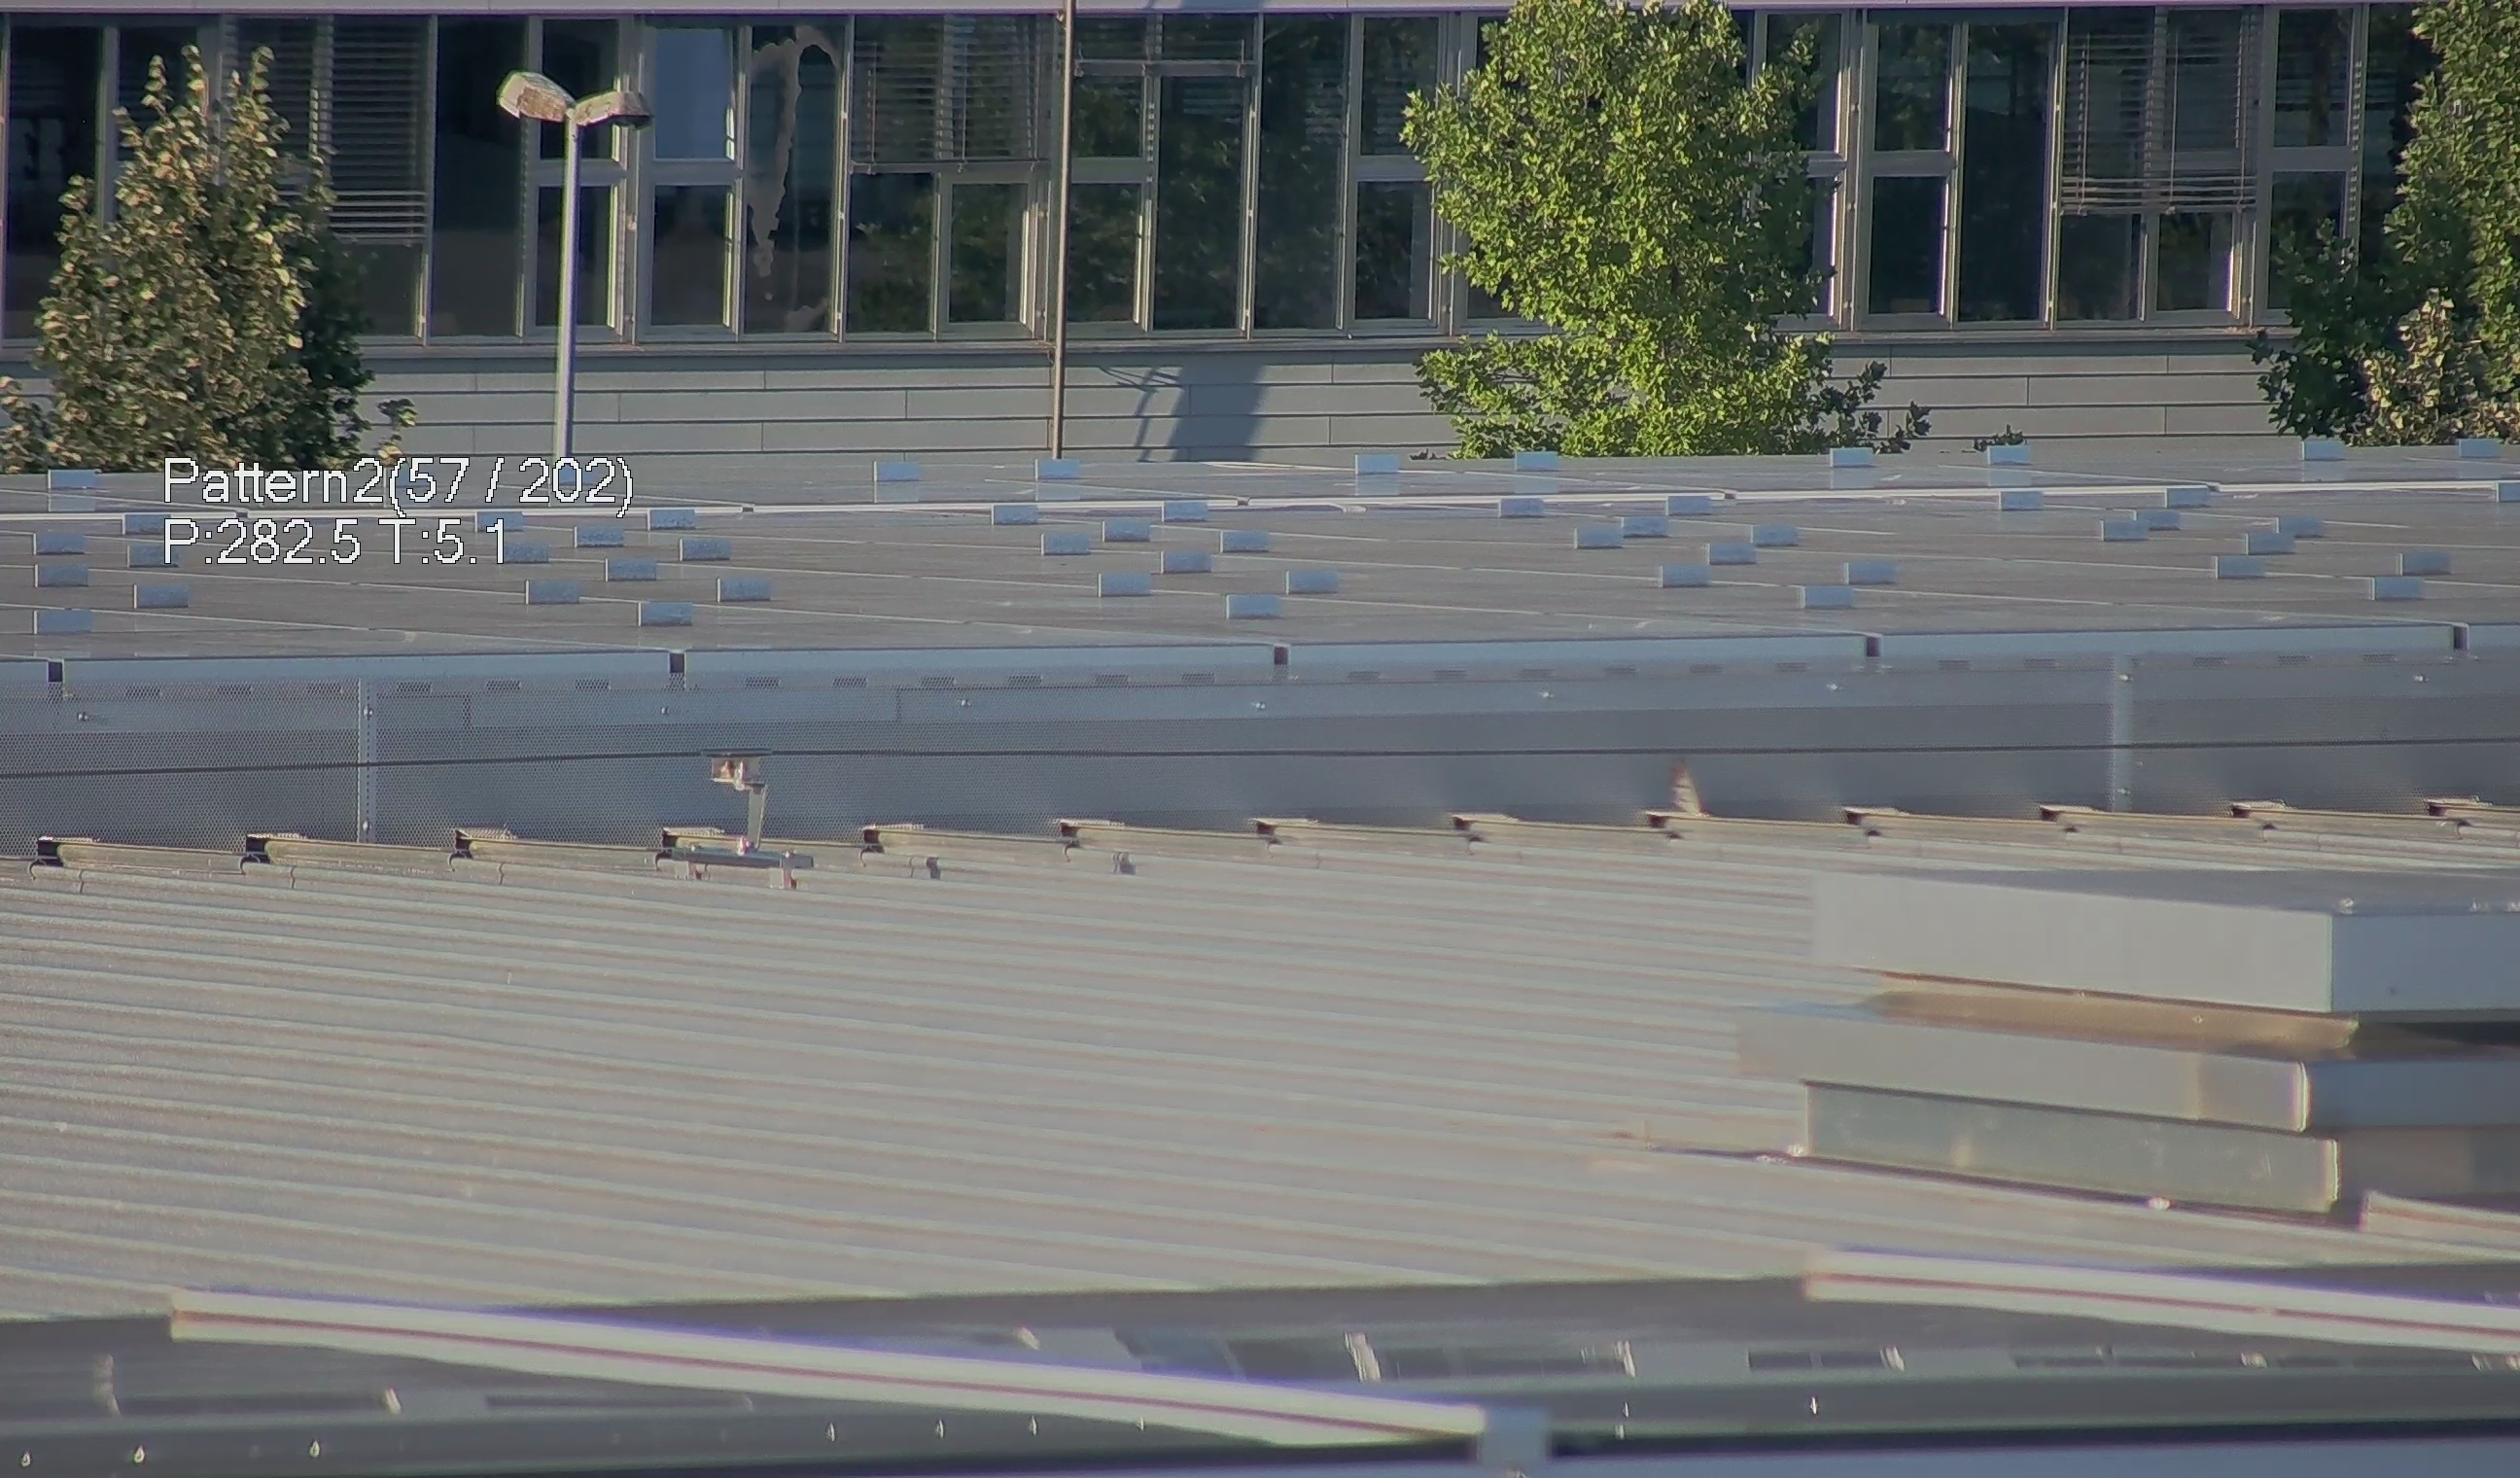Other: (1648, 746, 1722, 845)
